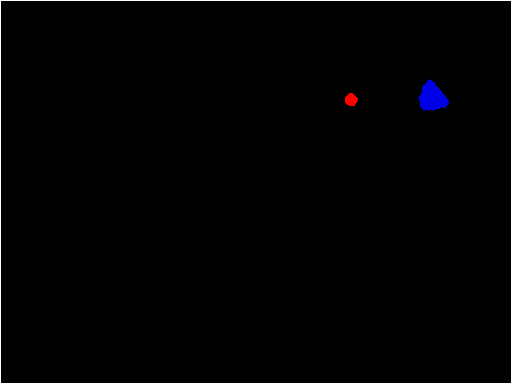chipped: (420, 81, 441, 107)
detached: (343, 91, 358, 106)
